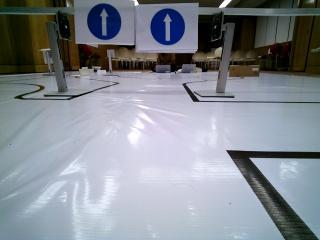straight: (134, 4, 198, 54), (73, 0, 134, 43)
